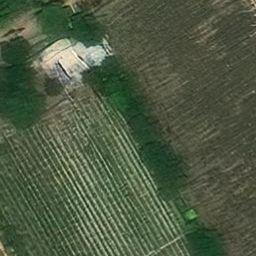manzanas: (41, 38, 90, 87)
